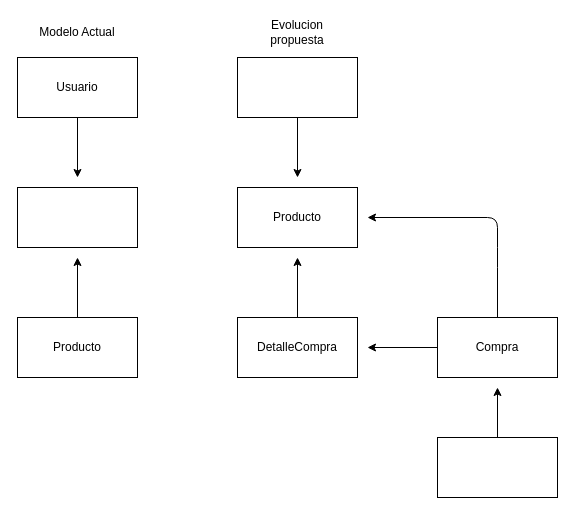
Image size: 575x515. Some labels were removed from this diagram. Each missing label, with the box of its shape:
Categoria: (236, 56, 358, 118)
Movimiento: (16, 186, 138, 248)
Proveedor: (436, 436, 558, 498)
